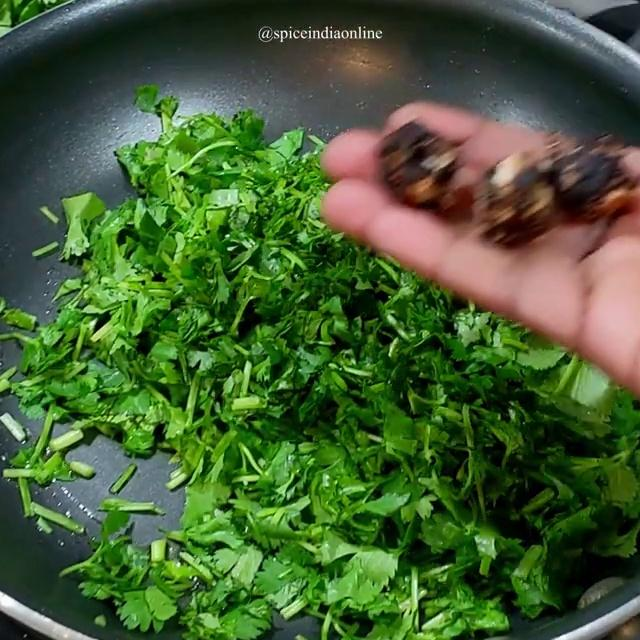cilantro: (82, 276, 501, 626)
